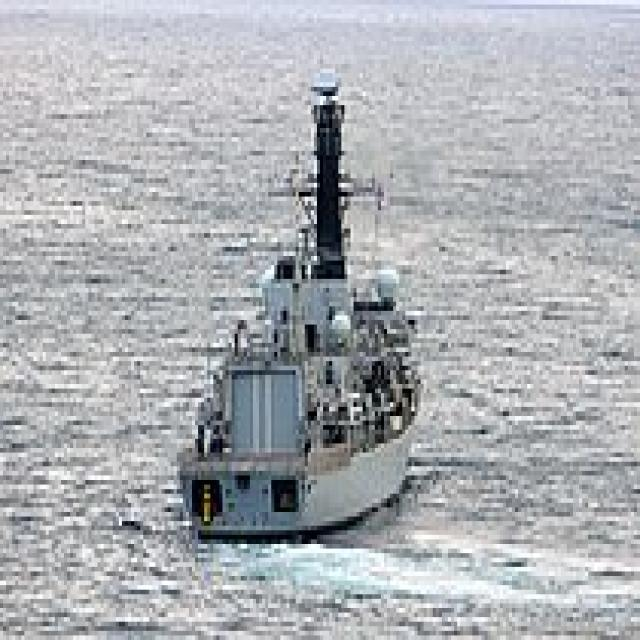Warship: (170, 59, 424, 544)
